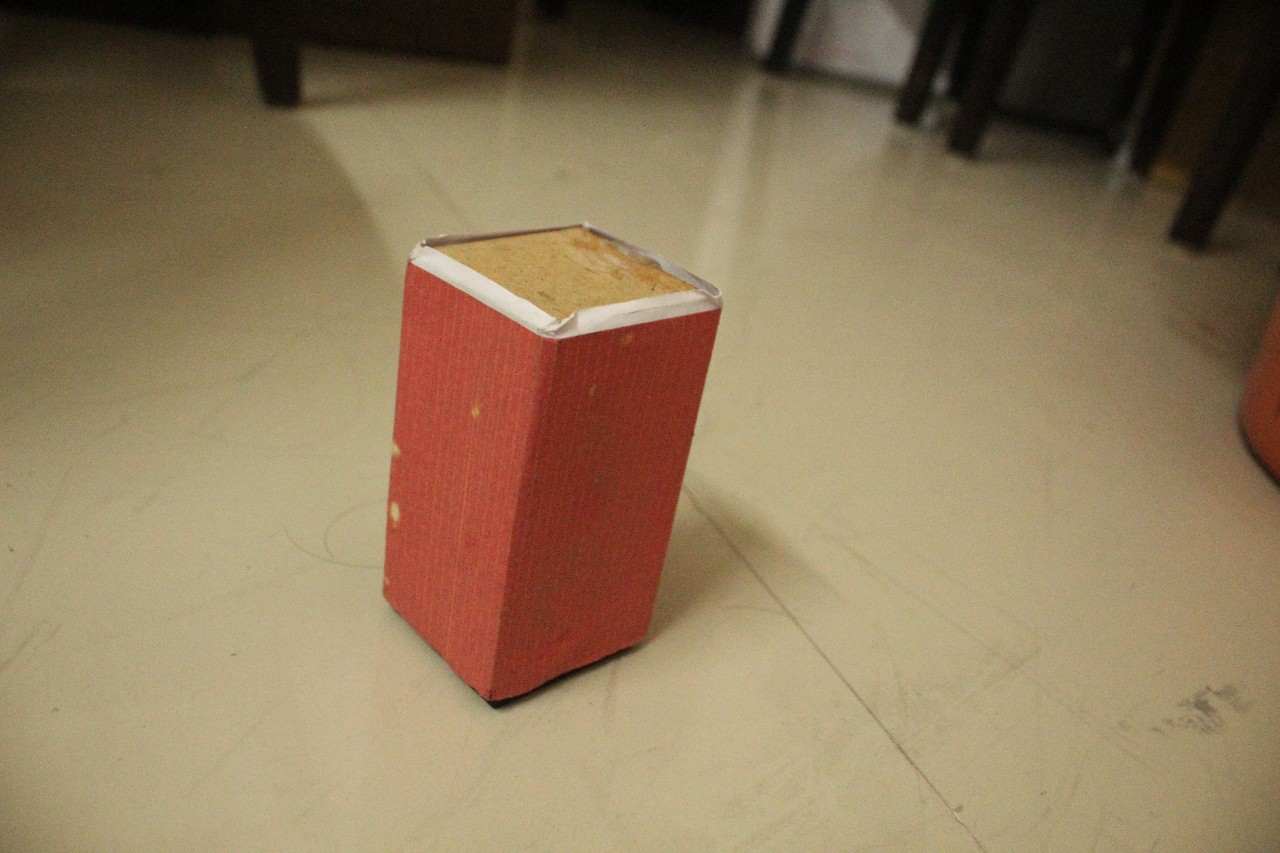red: (366, 242, 738, 724)
